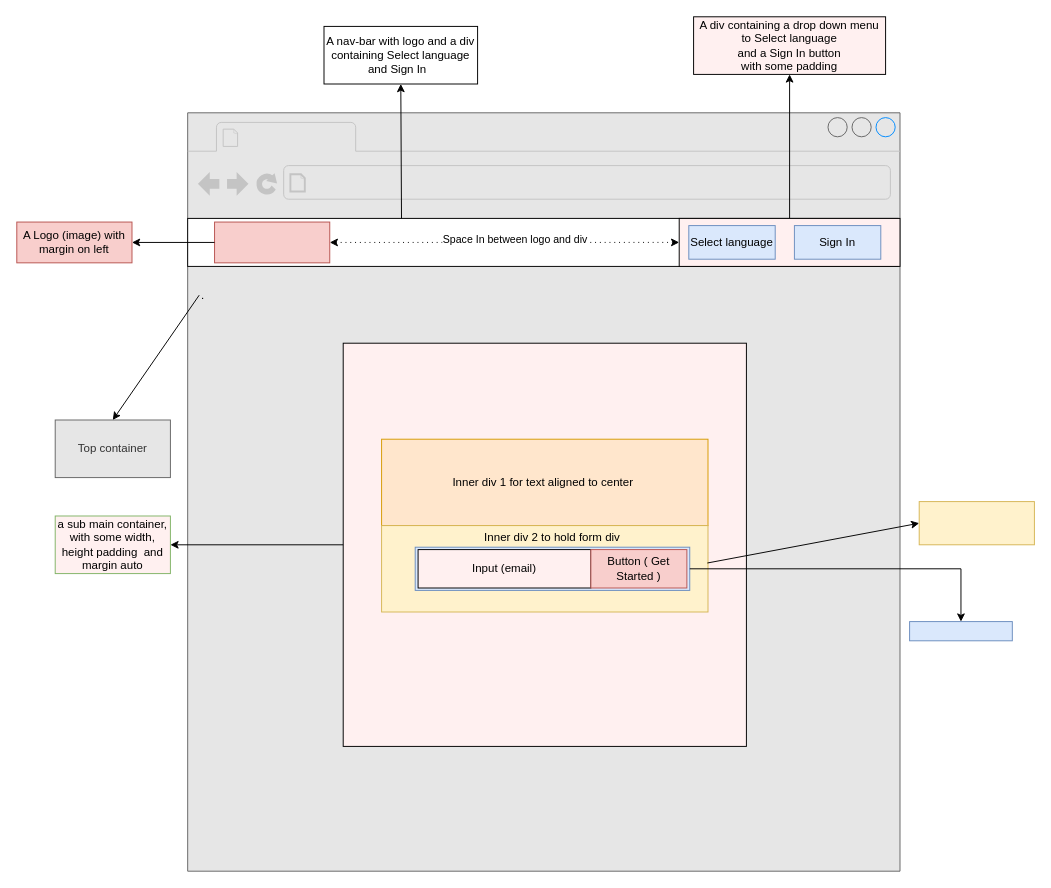
Image size: 1051x888. Some labels were removed from this diagram. Each missing label, with the box of its shape:
Form div: (909, 621, 1012, 641)
https://www.draw.io: (312, 169, 552, 195)
Inner div 2 with some padding: (918, 501, 1034, 545)
Netflix Logo: (214, 221, 330, 263)
Page 1: (244, 123, 351, 149)
